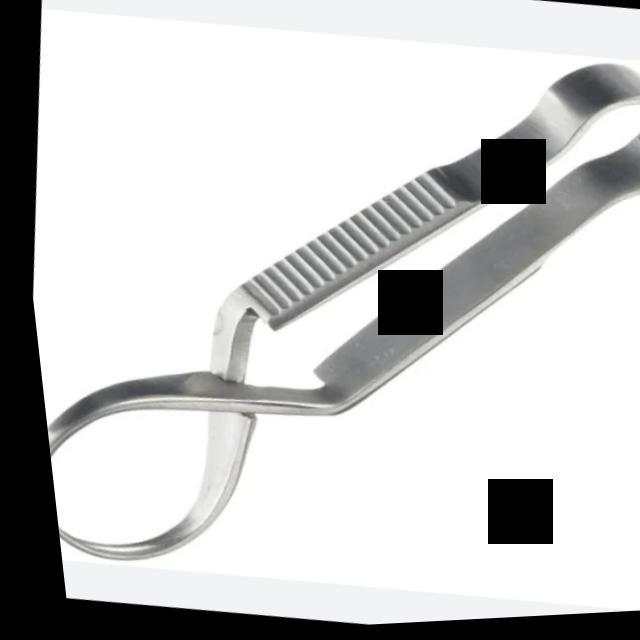Doyen Cross Action Towel Clamp: (1, 0, 640, 640)
